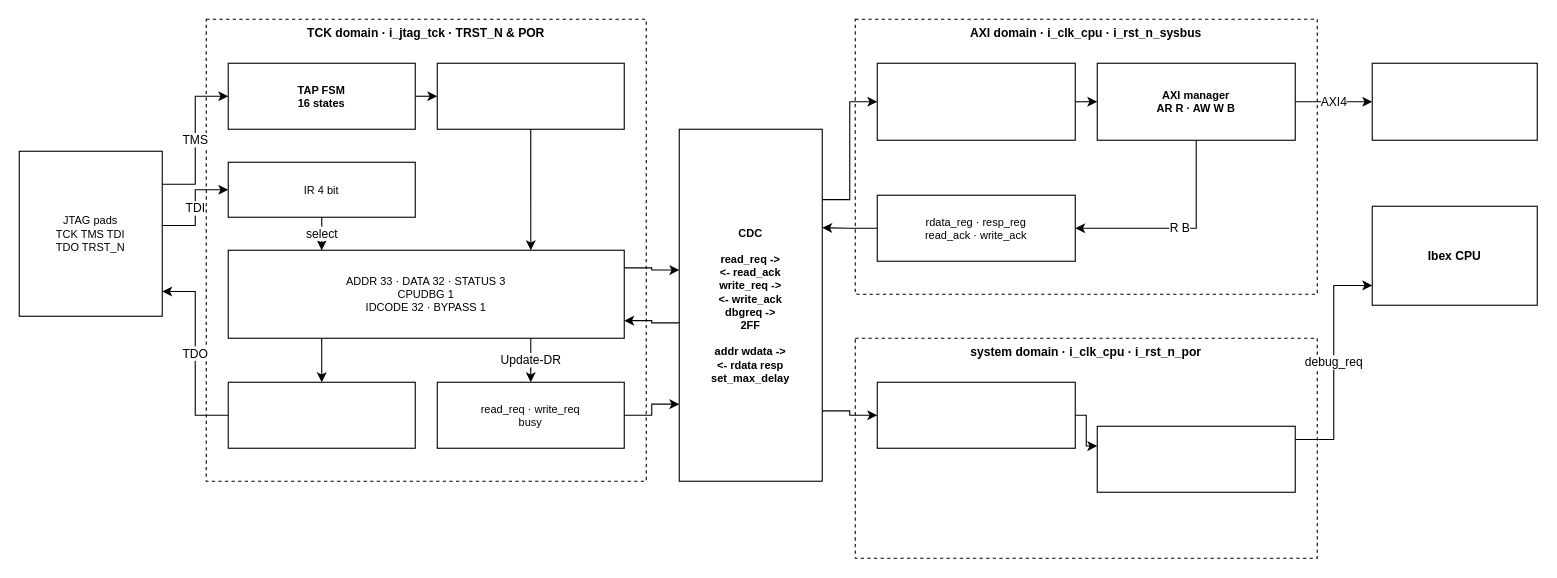
Image size: 1557x578. Some labels were removed from this diagram. Each missing label, with the centre of its shape:
"2FF + edge set_ar · set_aw" belongs at point (975, 101).
"control signals capture shift update" belongs at point (530, 95).
"dbgreq 2FF" belongs at point (975, 414).
"o_dbg_req" belongs at point (1195, 458).
"S_BUS AXI_S0" belongs at point (1454, 101).
"TDO mux falling-edge flop" belongs at point (321, 414).
